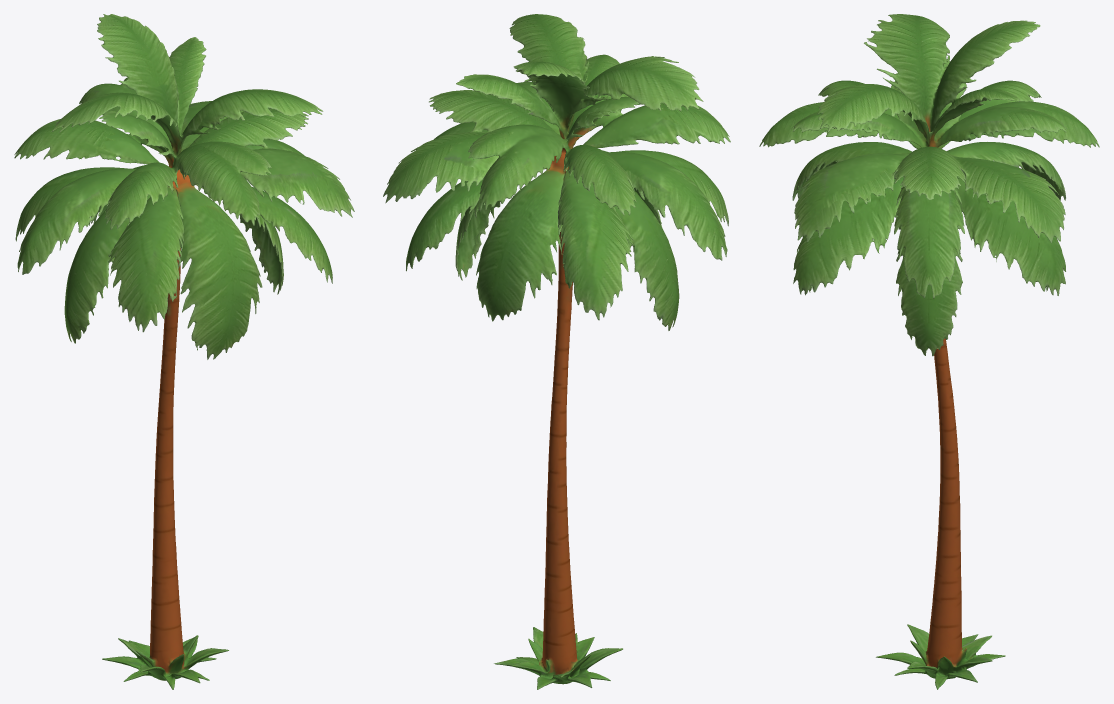
File: mata_palmeira.glb
The picture shows the model from 3 angles, left to right: view 1: azimuth 30°, elevation 25°; view 2: azimuth 150°, elevation 25°; view 3: azimuth 270°, elevation 25°; orthographic projection.
Size of the model in its own units: 0.9692 by 1.9 by 0.9128.
Materials: 1 (1 with a texture image).
